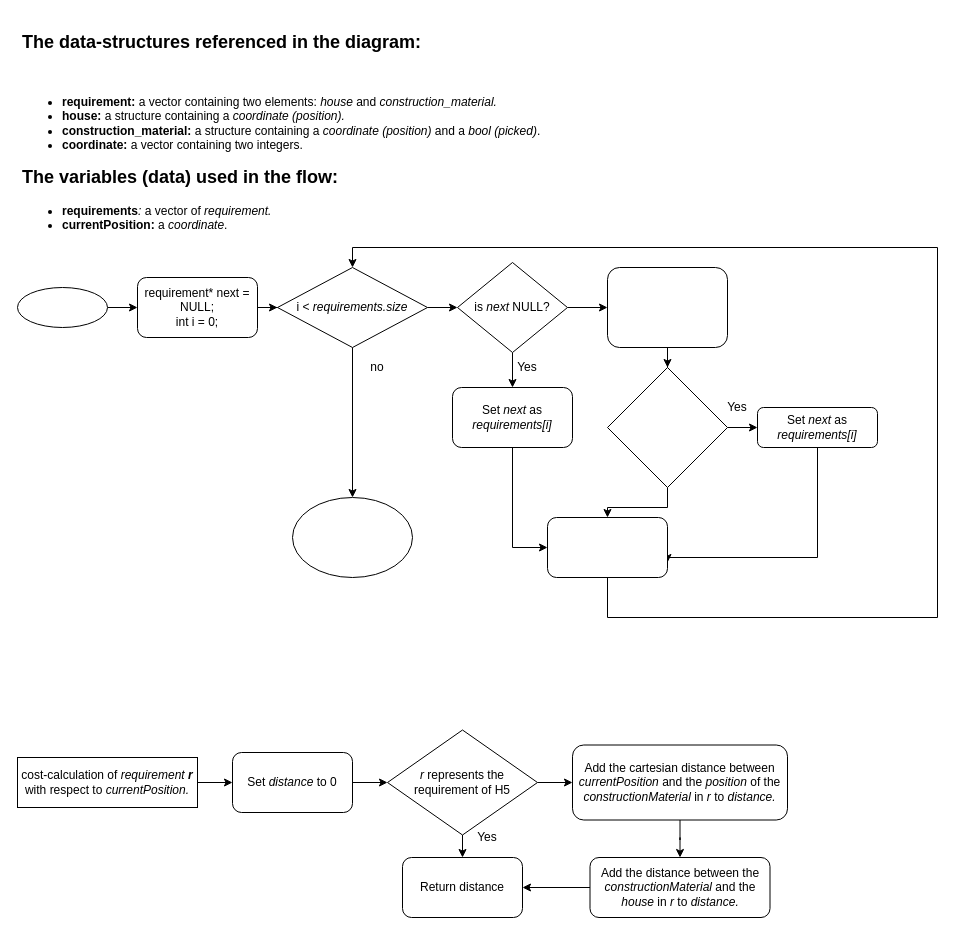
Some shapes in this 963 by 935 pixel diagram are drawn without their labels. Here are the shapes that lost their labels. From the top down, the box of each, then its label:
(16, 286, 108, 328): START
(606, 266, 728, 348): compare the cost of meeting requirements[i] and next using cost-calculation.
(606, 366, 728, 488): cost of requirements[i] is less than next
(292, 496, 412, 578): return next;
(546, 516, 668, 578): Set i = i + 1;
